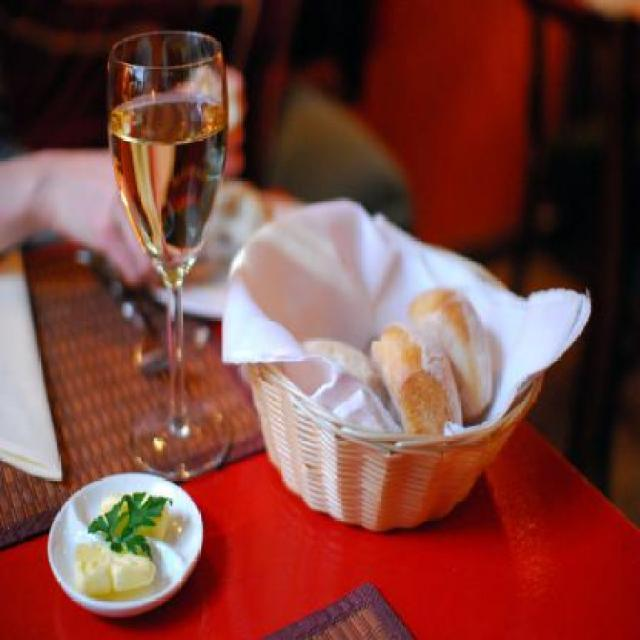Bread: (406, 286, 494, 428), (370, 324, 464, 432), (297, 339, 386, 412)
